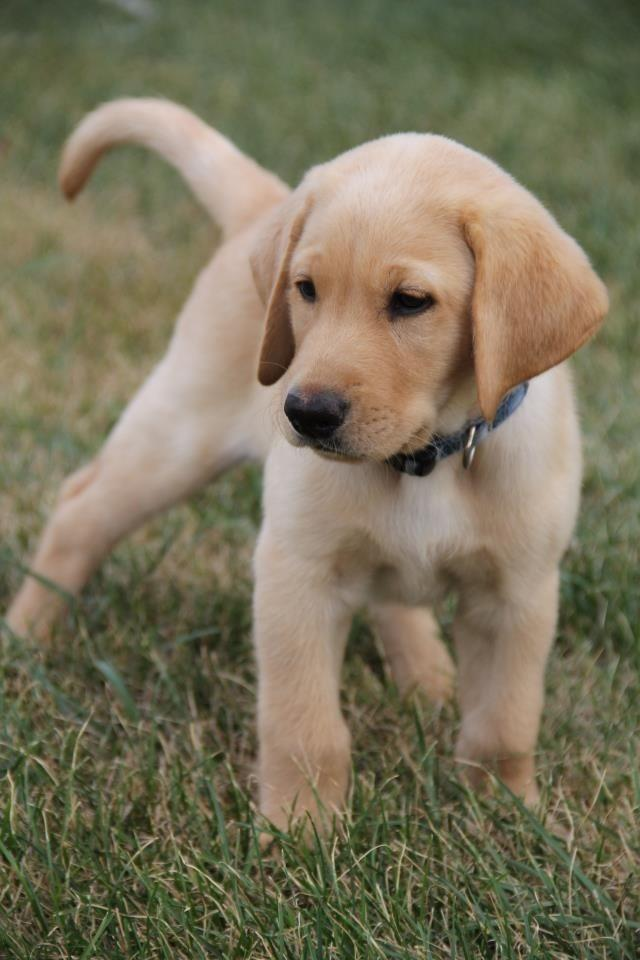puppy-dog: (2, 96, 610, 854)
